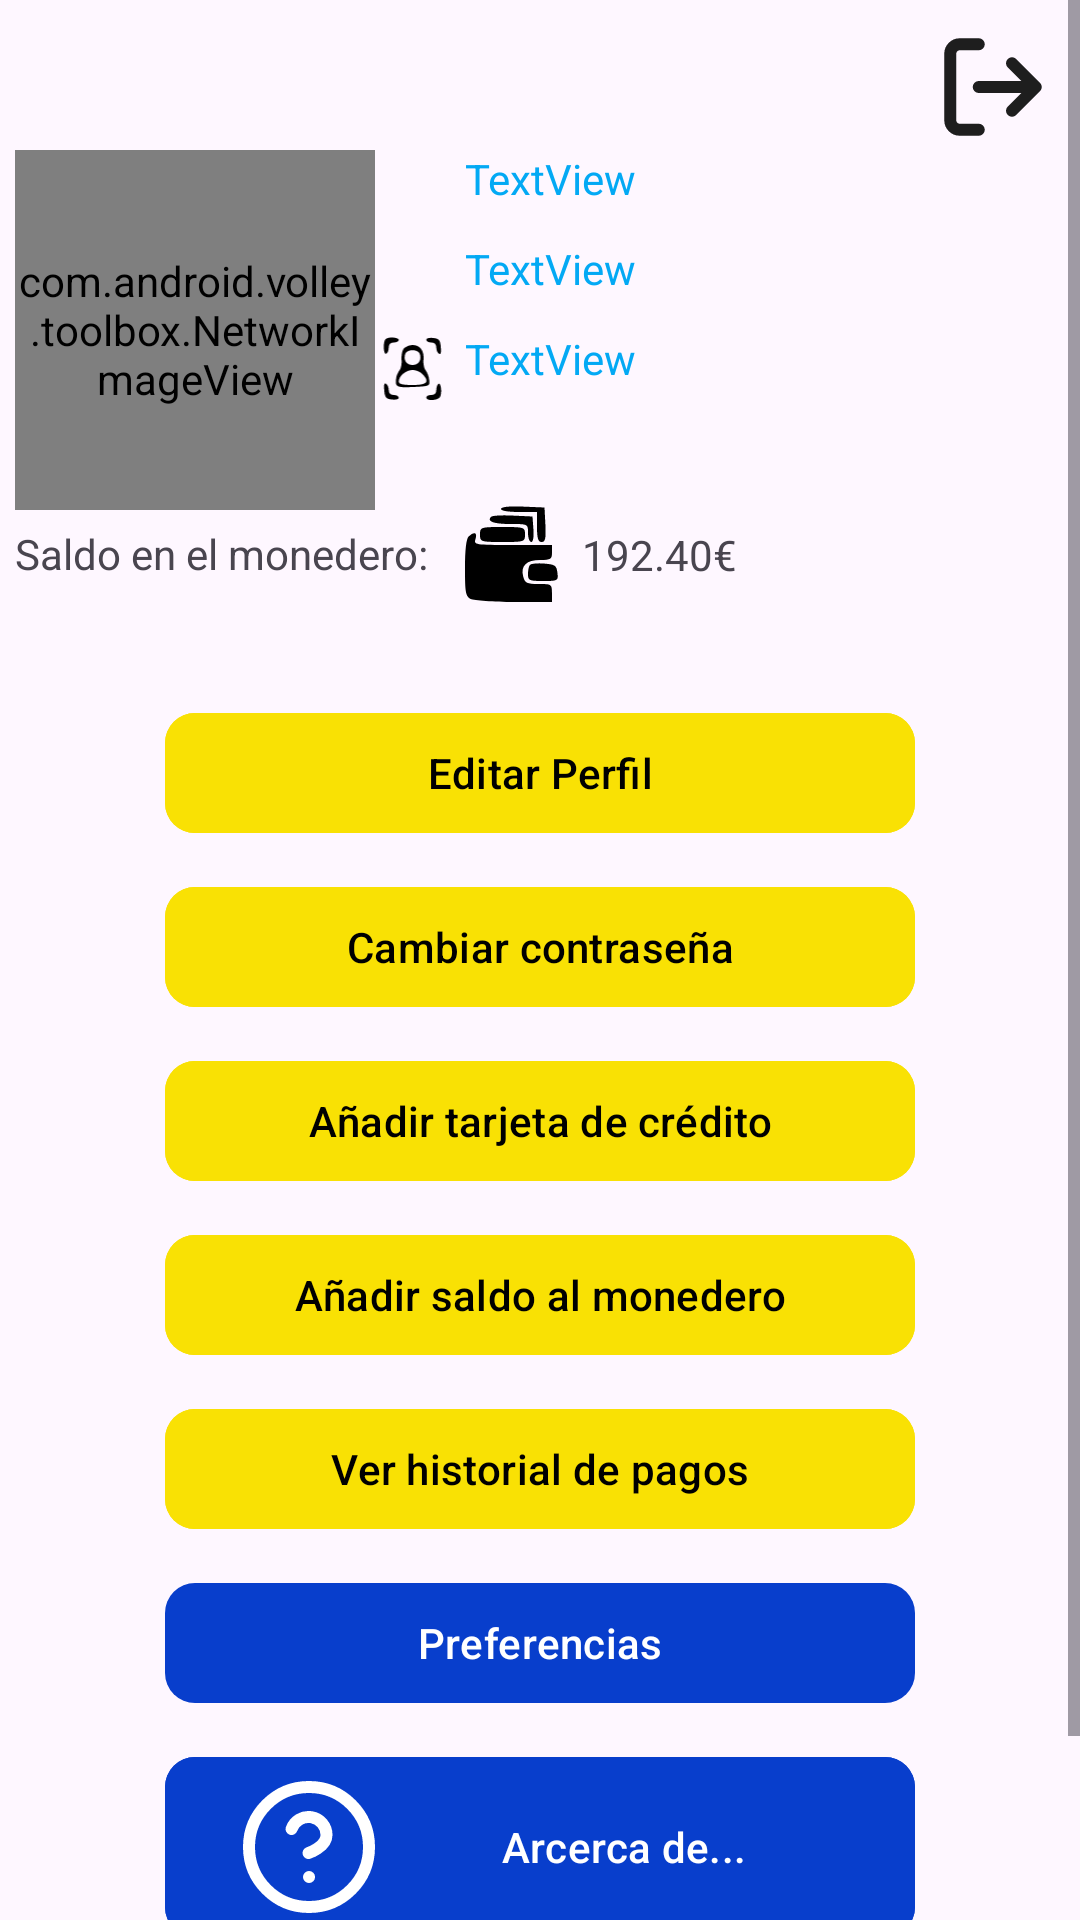

Named icons in this screenshot (1080w x 1920h) and their bounding boxes, (x1, y1, x2, y2):
log out: (944, 38, 1042, 136)
uid: (383, 337, 442, 400)
